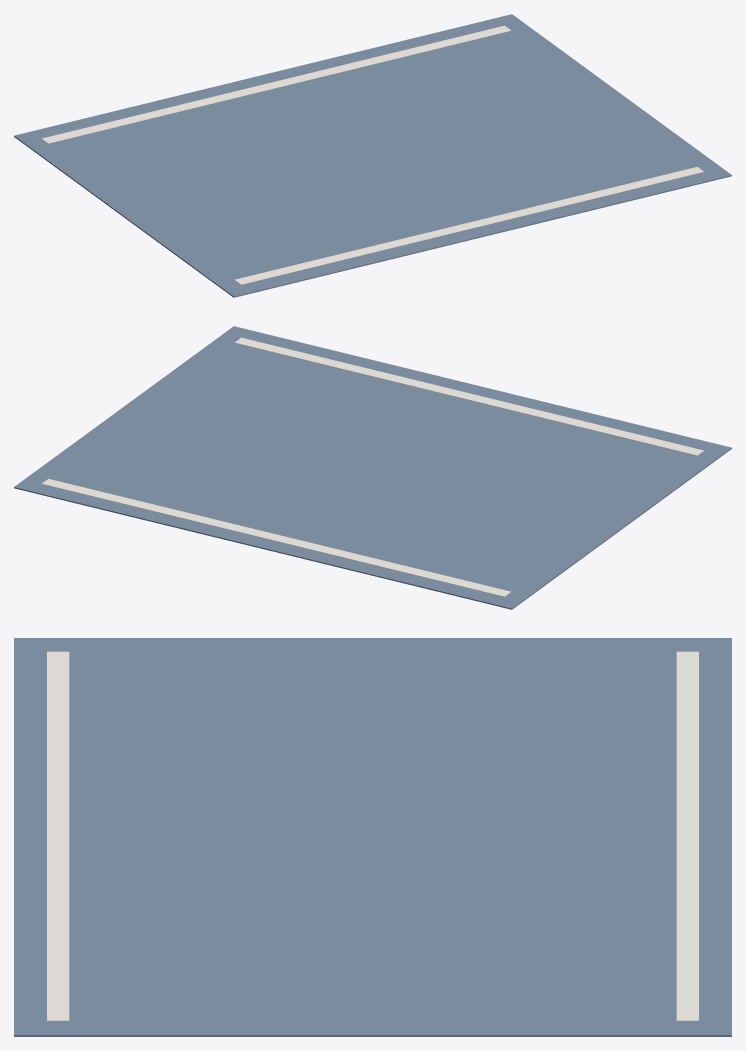
The model's file is rug_b.glb.
3 views of the same model, one above another, from view 1: azimuth 30°, elevation 25°; view 2: azimuth 150°, elevation 25°; view 3: azimuth 270°, elevation 25° (orthographic). The views are drawn at different scales.
Parts seen in each view (by area): view 1: rug_b_rug2, rug_b_cream; view 2: rug_b_rug2, rug_b_cream; view 3: rug_b_rug2, rug_b_cream.
Boxes of the visible parts, <box> form: rug_b_rug2: <box>14,14,731,297</box>; rug_b_cream: <box>42,25,703,284</box>; rug_b_rug2: <box>14,326,731,609</box>; rug_b_cream: <box>42,337,703,596</box>; rug_b_rug2: <box>14,638,731,1036</box>; rug_b_cream: <box>47,651,698,1020</box>.
Bounding box in the file's own units: 3.4 × 0.0095 × 2.6.
